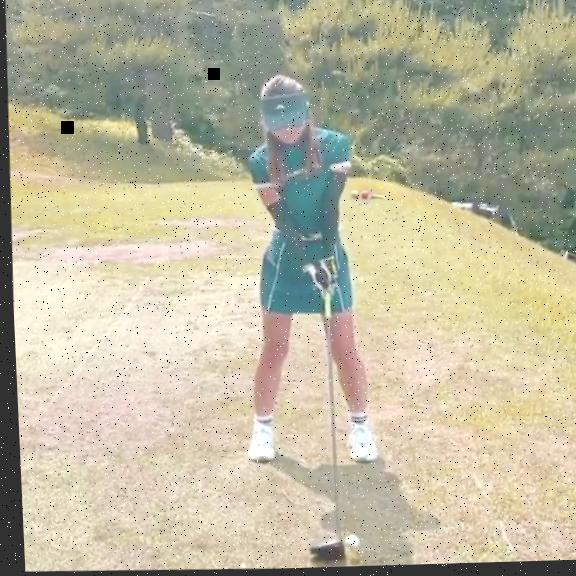ClubHead: (303, 541, 342, 563)
GolfBall: (340, 535, 355, 550)
